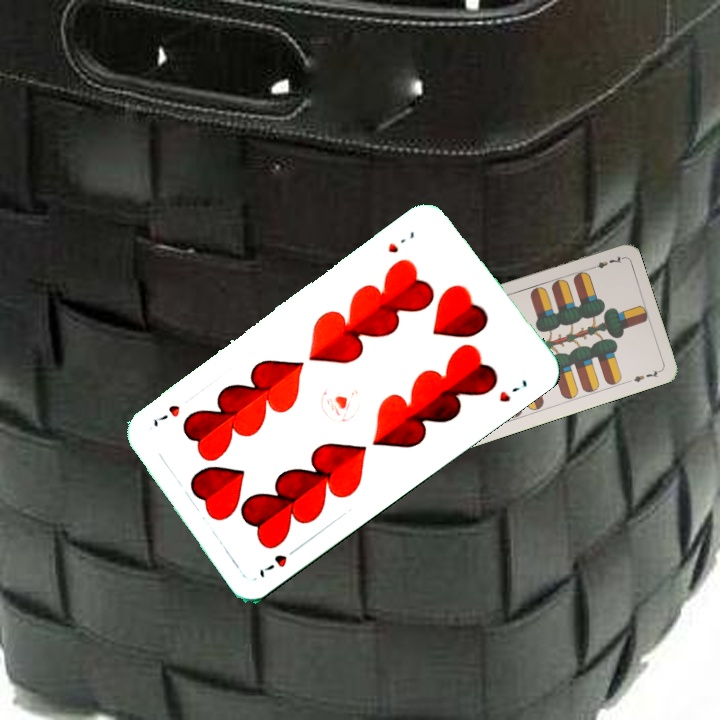E7: (585, 252, 625, 272)
H7: (255, 541, 304, 580), (383, 226, 417, 256)
